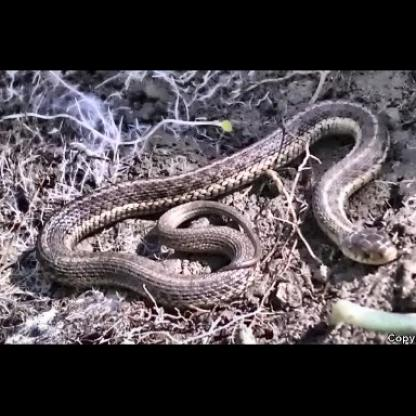Snake: (34, 100, 396, 308)
